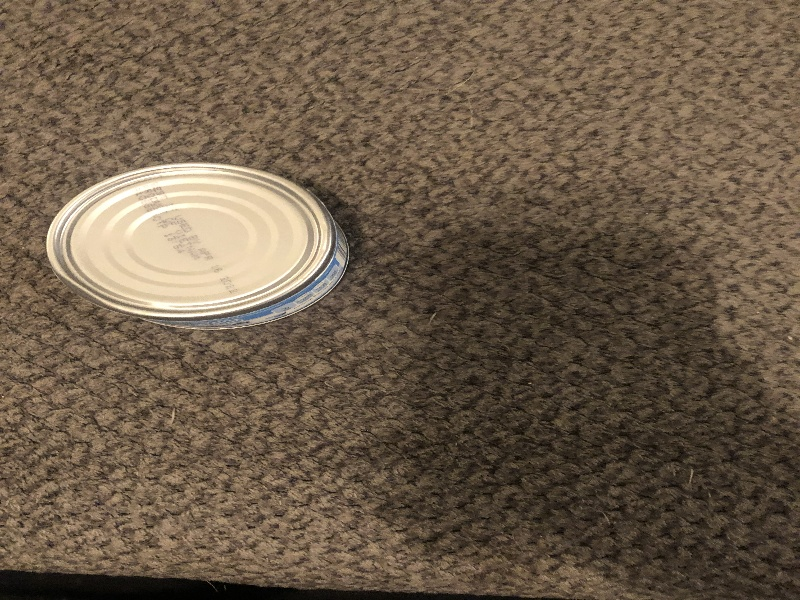metal: (36, 159, 356, 336)
